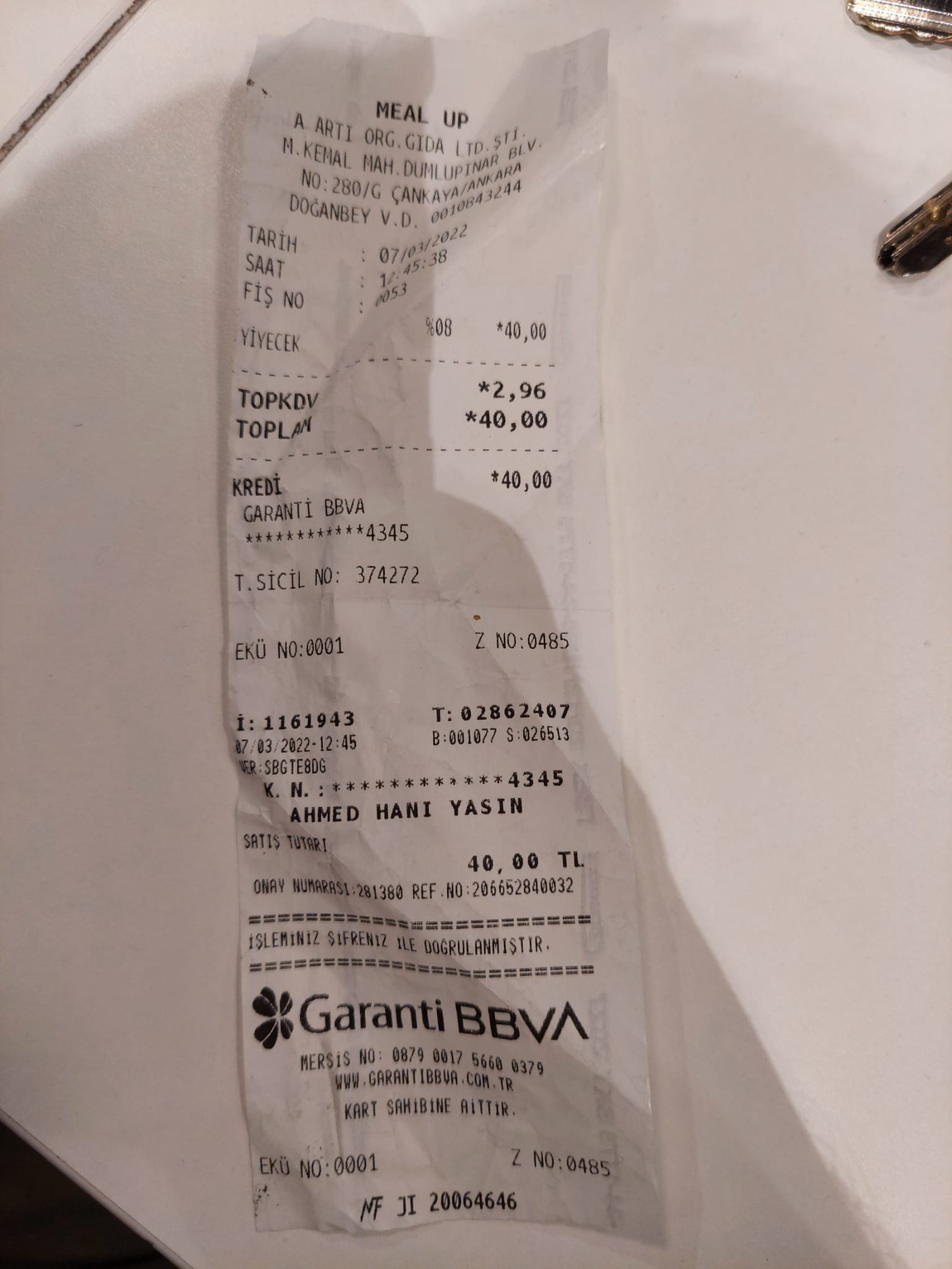date: (475, 404, 561, 438)
price: (370, 223, 471, 264)
workplace: (270, 89, 569, 205)
